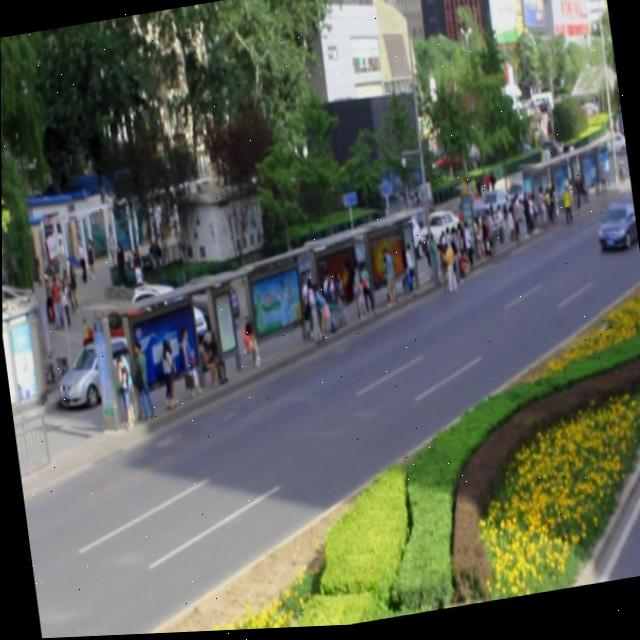car: (593, 205, 638, 258)
